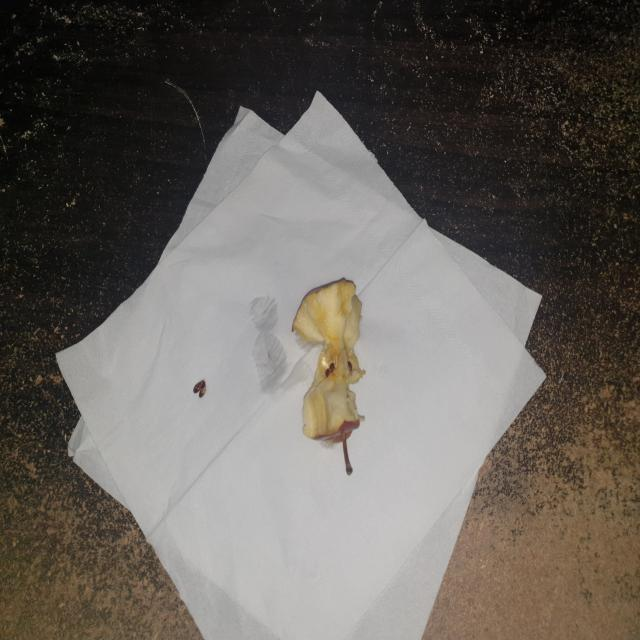apple: (286, 271, 386, 481)
